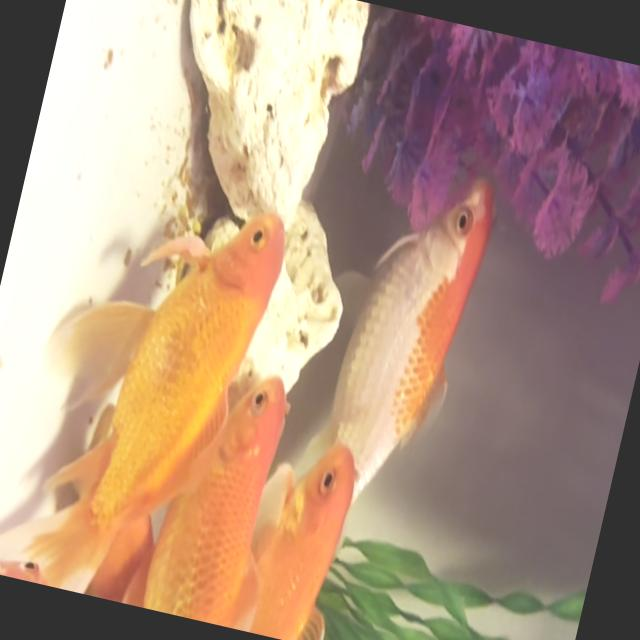fish: (0, 158, 291, 619), (298, 150, 502, 532), (65, 340, 300, 630), (215, 423, 367, 640)
